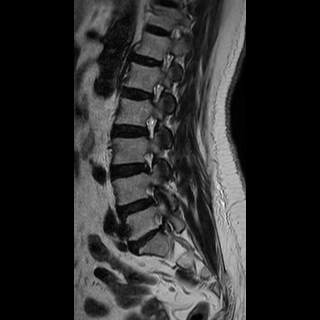LFS0: (143, 76, 172, 112), (137, 113, 168, 146)
LFS1: (137, 148, 164, 180)
LFS2: (138, 182, 164, 214)
